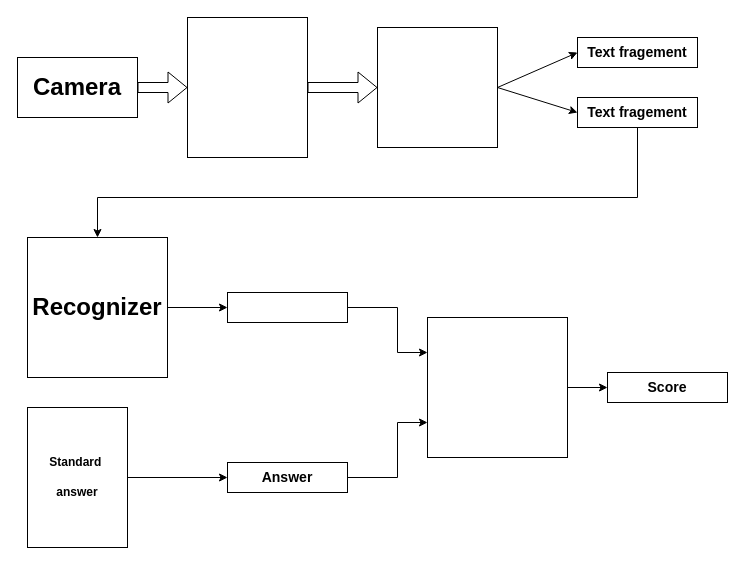
This 745x565 diagram has some shape labels left out. Each missing label, with the centre of its shape:
Detector: the point at 437,87
Image: the point at 247,87
Plain text: the point at 287,307
Score System: the point at 497,387
